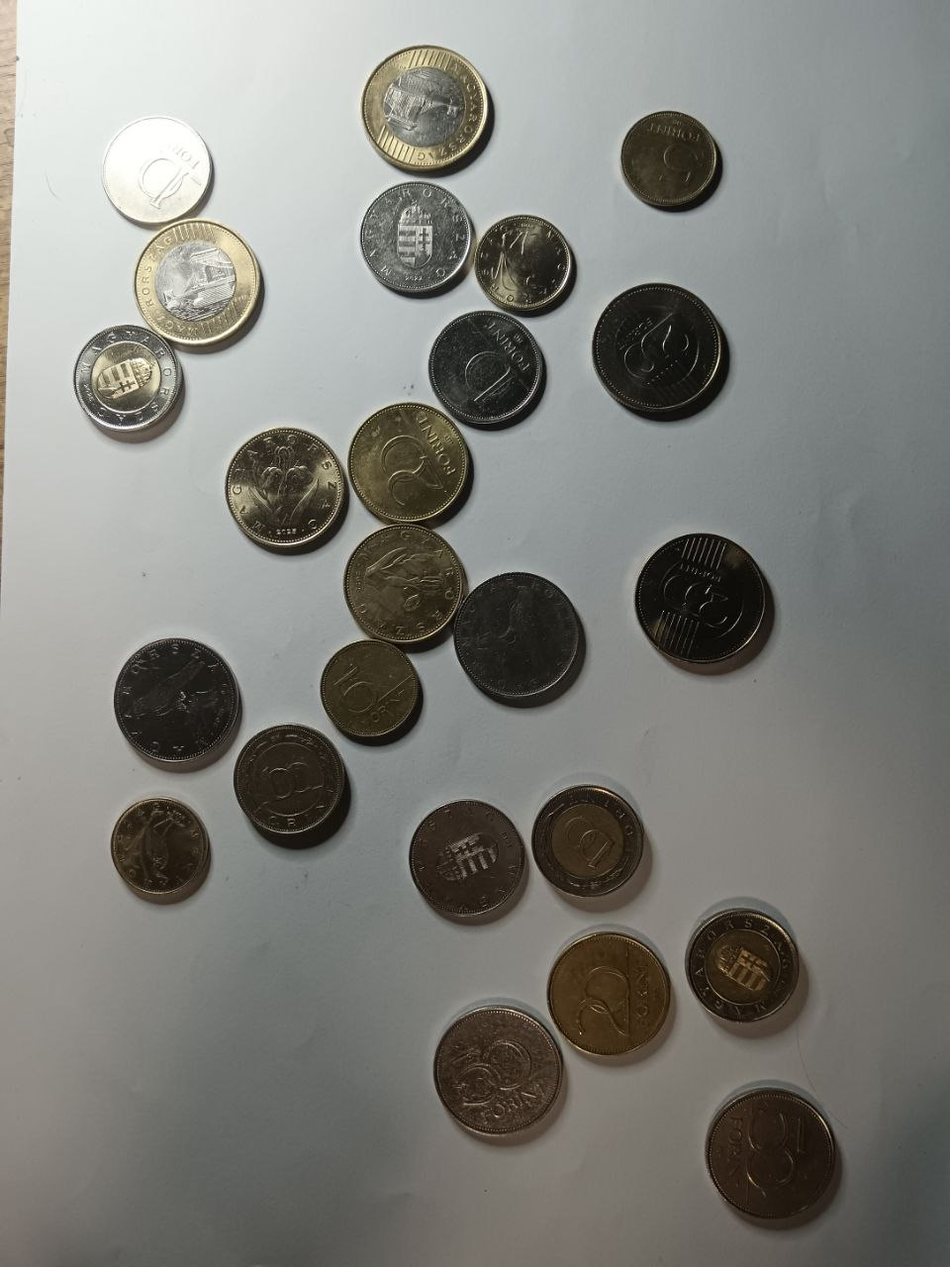100ft: (531, 774, 649, 904), (691, 905, 797, 1020), (77, 325, 183, 431), (238, 728, 342, 834)
10ft: (411, 800, 522, 916), (431, 313, 542, 422), (364, 183, 471, 291), (102, 117, 212, 219)
200ft: (596, 283, 726, 413), (637, 534, 765, 662), (365, 46, 488, 171), (138, 222, 263, 343)
20ft: (551, 932, 668, 1055), (351, 402, 468, 521), (228, 430, 345, 545), (347, 525, 462, 640)
50ft: (438, 1006, 566, 1133), (713, 1090, 832, 1218), (460, 573, 581, 698), (115, 638, 237, 759)
5ft: (622, 111, 718, 207), (477, 217, 575, 311), (324, 642, 417, 740), (112, 800, 206, 896)
